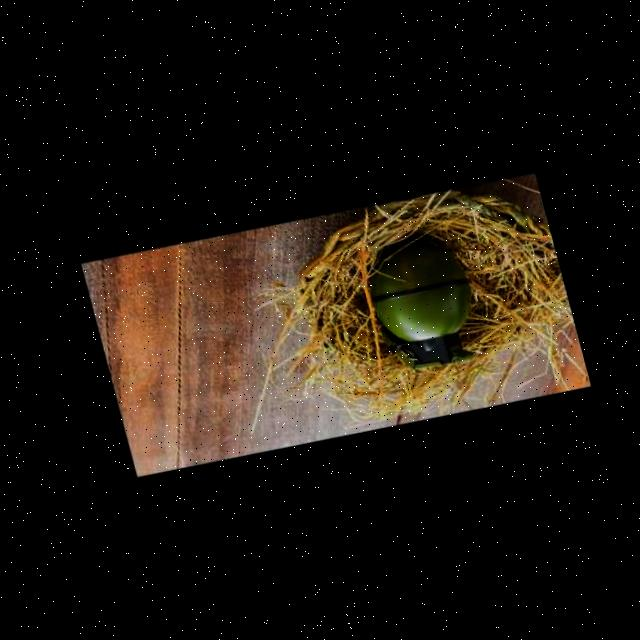grenade: (363, 228, 496, 377)
